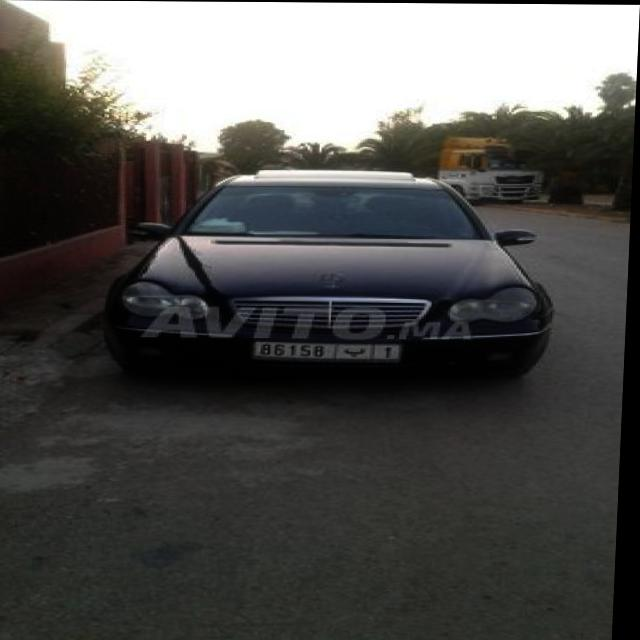License-Plate: (256, 340, 404, 362)
